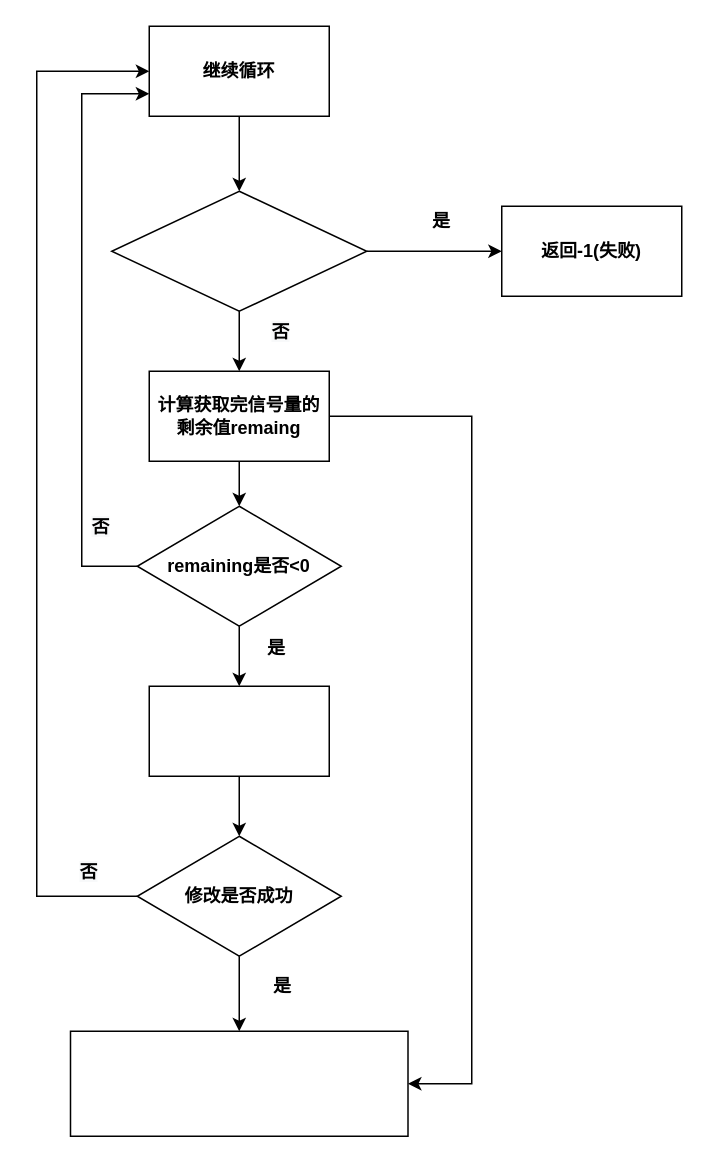
This 708x1163 diagram has some shape labels left out. Each missing label, with the box of its shape:
同步队列中是否有前继节点: (110, 190, 367, 311)
尝试CAS修改state为remaining: (148, 685, 329, 776)
返回remaining (remaining>=0,成功) （remaining<0,失败): (69, 1030, 408, 1136)
